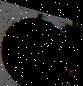Speed Limit -60-: (0, 9, 74, 86)
